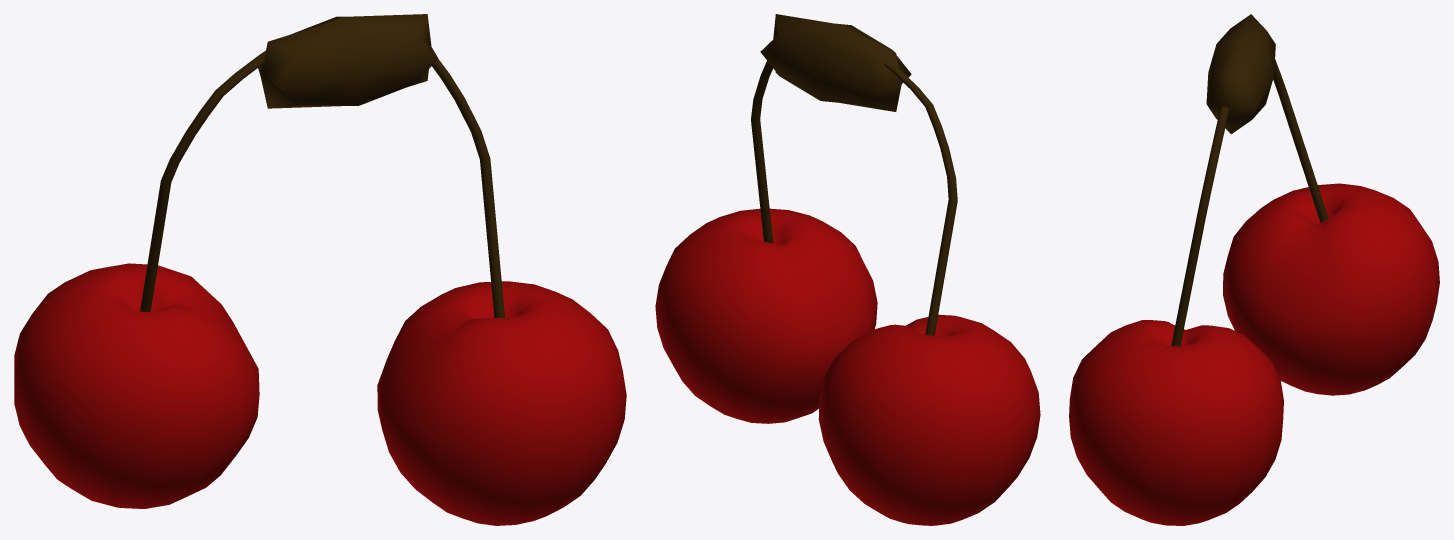
The model's file is Cherry.fbx.
The picture shows the model from 3 angles, left to right: view 1: azimuth 30°, elevation 25°; view 2: azimuth 150°, elevation 25°; view 3: azimuth 270°, elevation 25°; orthographic projection. The views are drawn at different scales.
Visible parts, largest first — view 1: cherry:pSphere3; view 2: cherry:pSphere3; view 3: cherry:pSphere3.
Boxes of the visible parts, x1=… form: cherry:pSphere3: x1=14, y1=14, x2=626, y2=525; cherry:pSphere3: x1=655, y1=14, x2=1040, y2=525; cherry:pSphere3: x1=1069, y1=14, x2=1439, y2=525.
Bounding box in the file's own units: 0.6058 × 0.589 × 0.4584.
